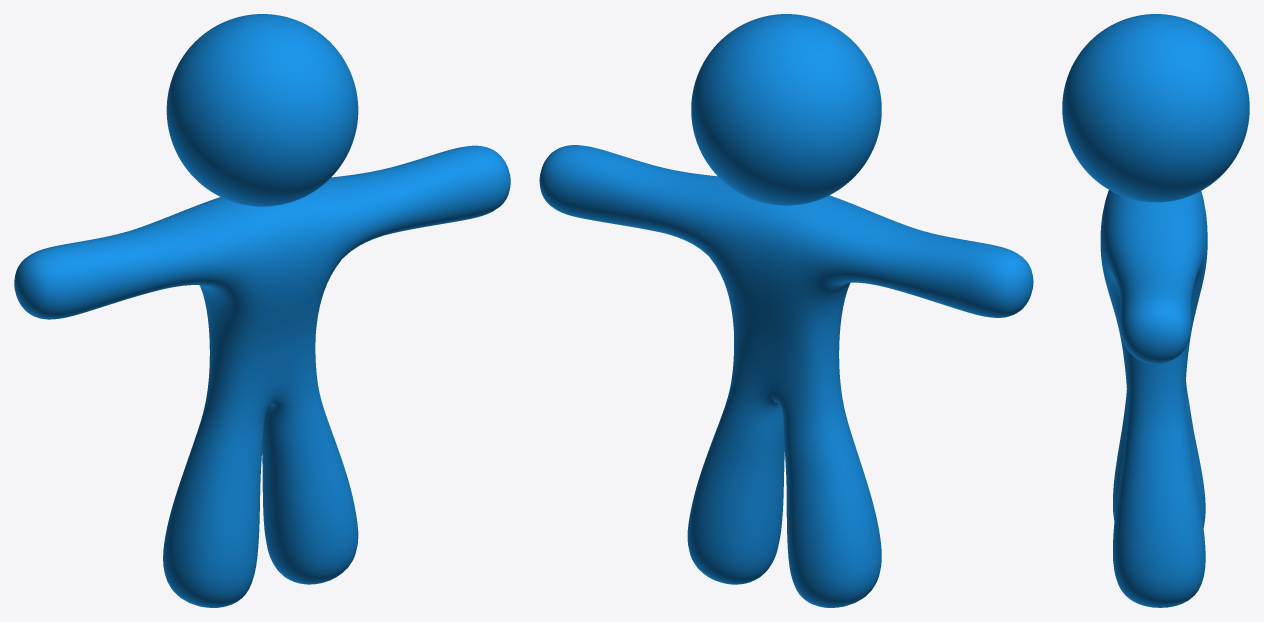
Rendered from StickGunPose.fbx.
3 renders of one model, left to right at view 1: azimuth 30°, elevation 25°; view 2: azimuth 150°, elevation 25°; view 3: azimuth 270°, elevation 25°, orthographic. The views are drawn at different scales.
Visible parts, largest first — view 1: Cube.001; view 2: Cube.001; view 3: Cube.001.
Boxes of the visible parts, box(x1,y1,x2,y2) form: Cube.001: box(14, 14, 510, 607); Cube.001: box(539, 14, 1033, 607); Cube.001: box(1062, 14, 1249, 607).
Size of the model in its own units: 49168 by 55195 by 16828.
